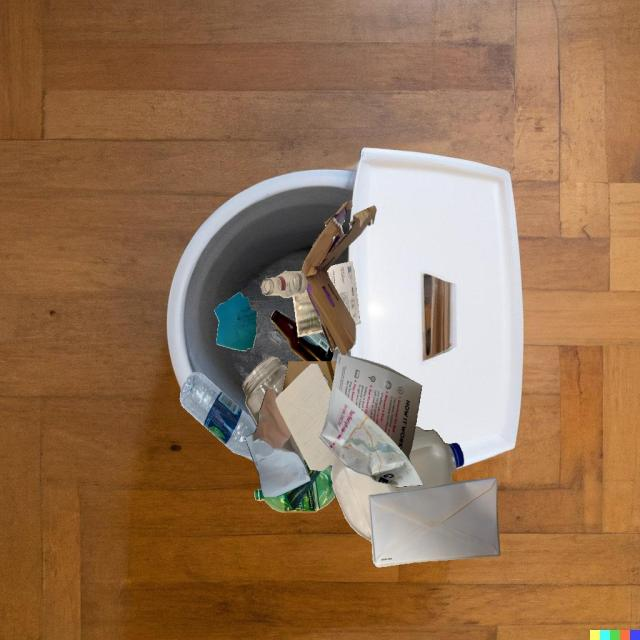biowaste: (286, 464, 321, 510)
cardboard: (301, 200, 377, 355), (283, 361, 336, 392)
glass: (270, 309, 334, 361), (242, 356, 287, 425), (261, 271, 307, 298), (328, 466, 332, 475)
paper: (319, 353, 423, 487), (368, 478, 500, 567), (275, 364, 338, 471), (245, 388, 306, 497), (214, 292, 257, 351), (305, 381, 329, 479), (328, 261, 360, 325), (294, 261, 350, 296), (293, 289, 323, 337)
plastic: (331, 426, 464, 542), (180, 372, 257, 457), (255, 486, 315, 512), (313, 467, 335, 512)
